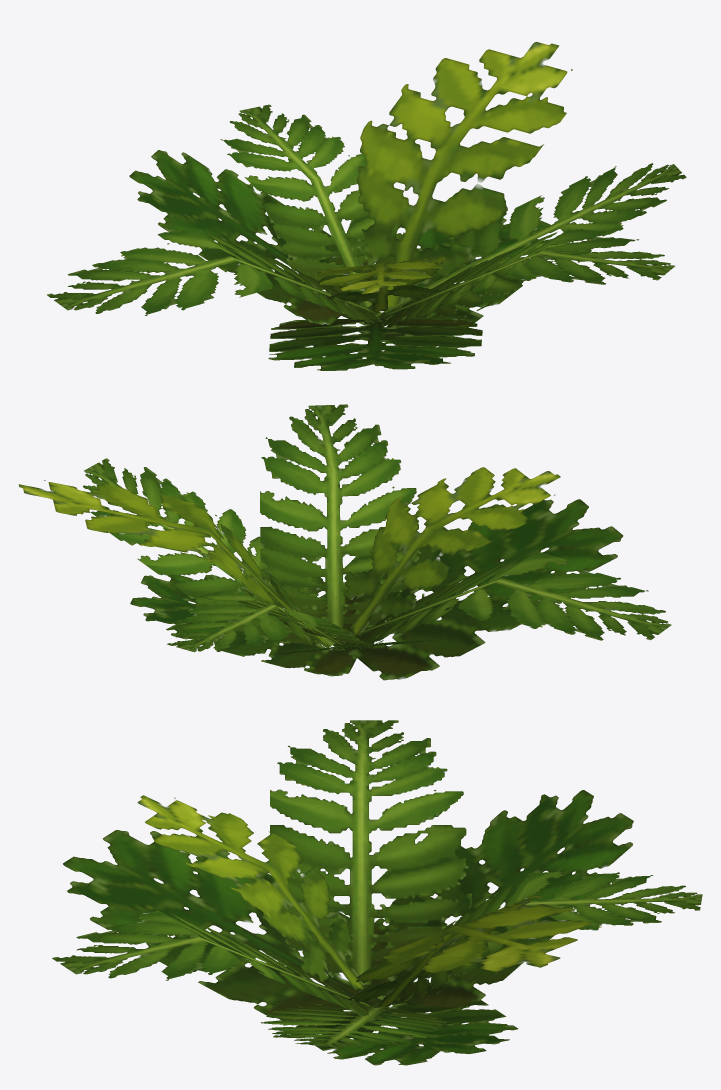
File: sm_plant_02.FBX
The picture shows the model from 3 angles, top to bottom: view 1: azimuth 30°, elevation 25°; view 2: azimuth 150°, elevation 25°; view 3: azimuth 270°, elevation 25°; orthographic projection. The views are drawn at different scales.
Visible parts, largest first — view 1: sm_plant_04; view 2: sm_plant_04; view 3: sm_plant_04.
Part boxes in pixels (x1=…): sm_plant_04: x1=47, y1=42, x2=686, y2=370; sm_plant_04: x1=18, y1=404, x2=671, y2=680; sm_plant_04: x1=52, y1=720, x2=702, y2=1065.
Bounding box in the file's own units: 138 × 120 × 38.71.
